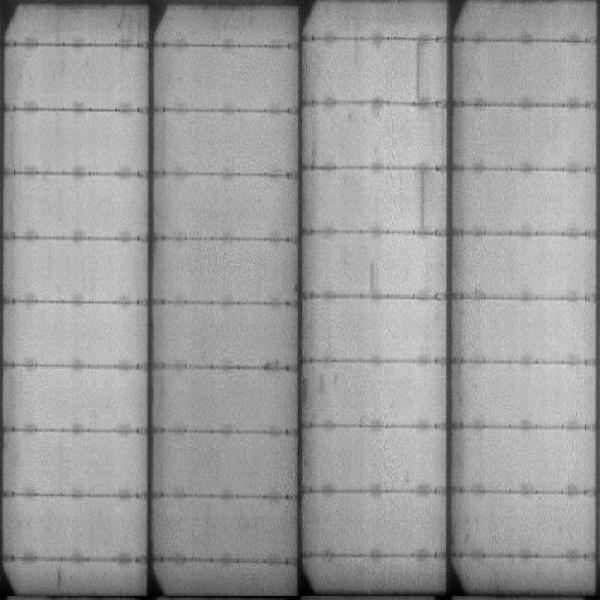scratch: (412, 35, 425, 99), (417, 169, 430, 227)
